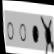correct: (30, 23, 41, 49)
not correct: (36, 13, 54, 54)
